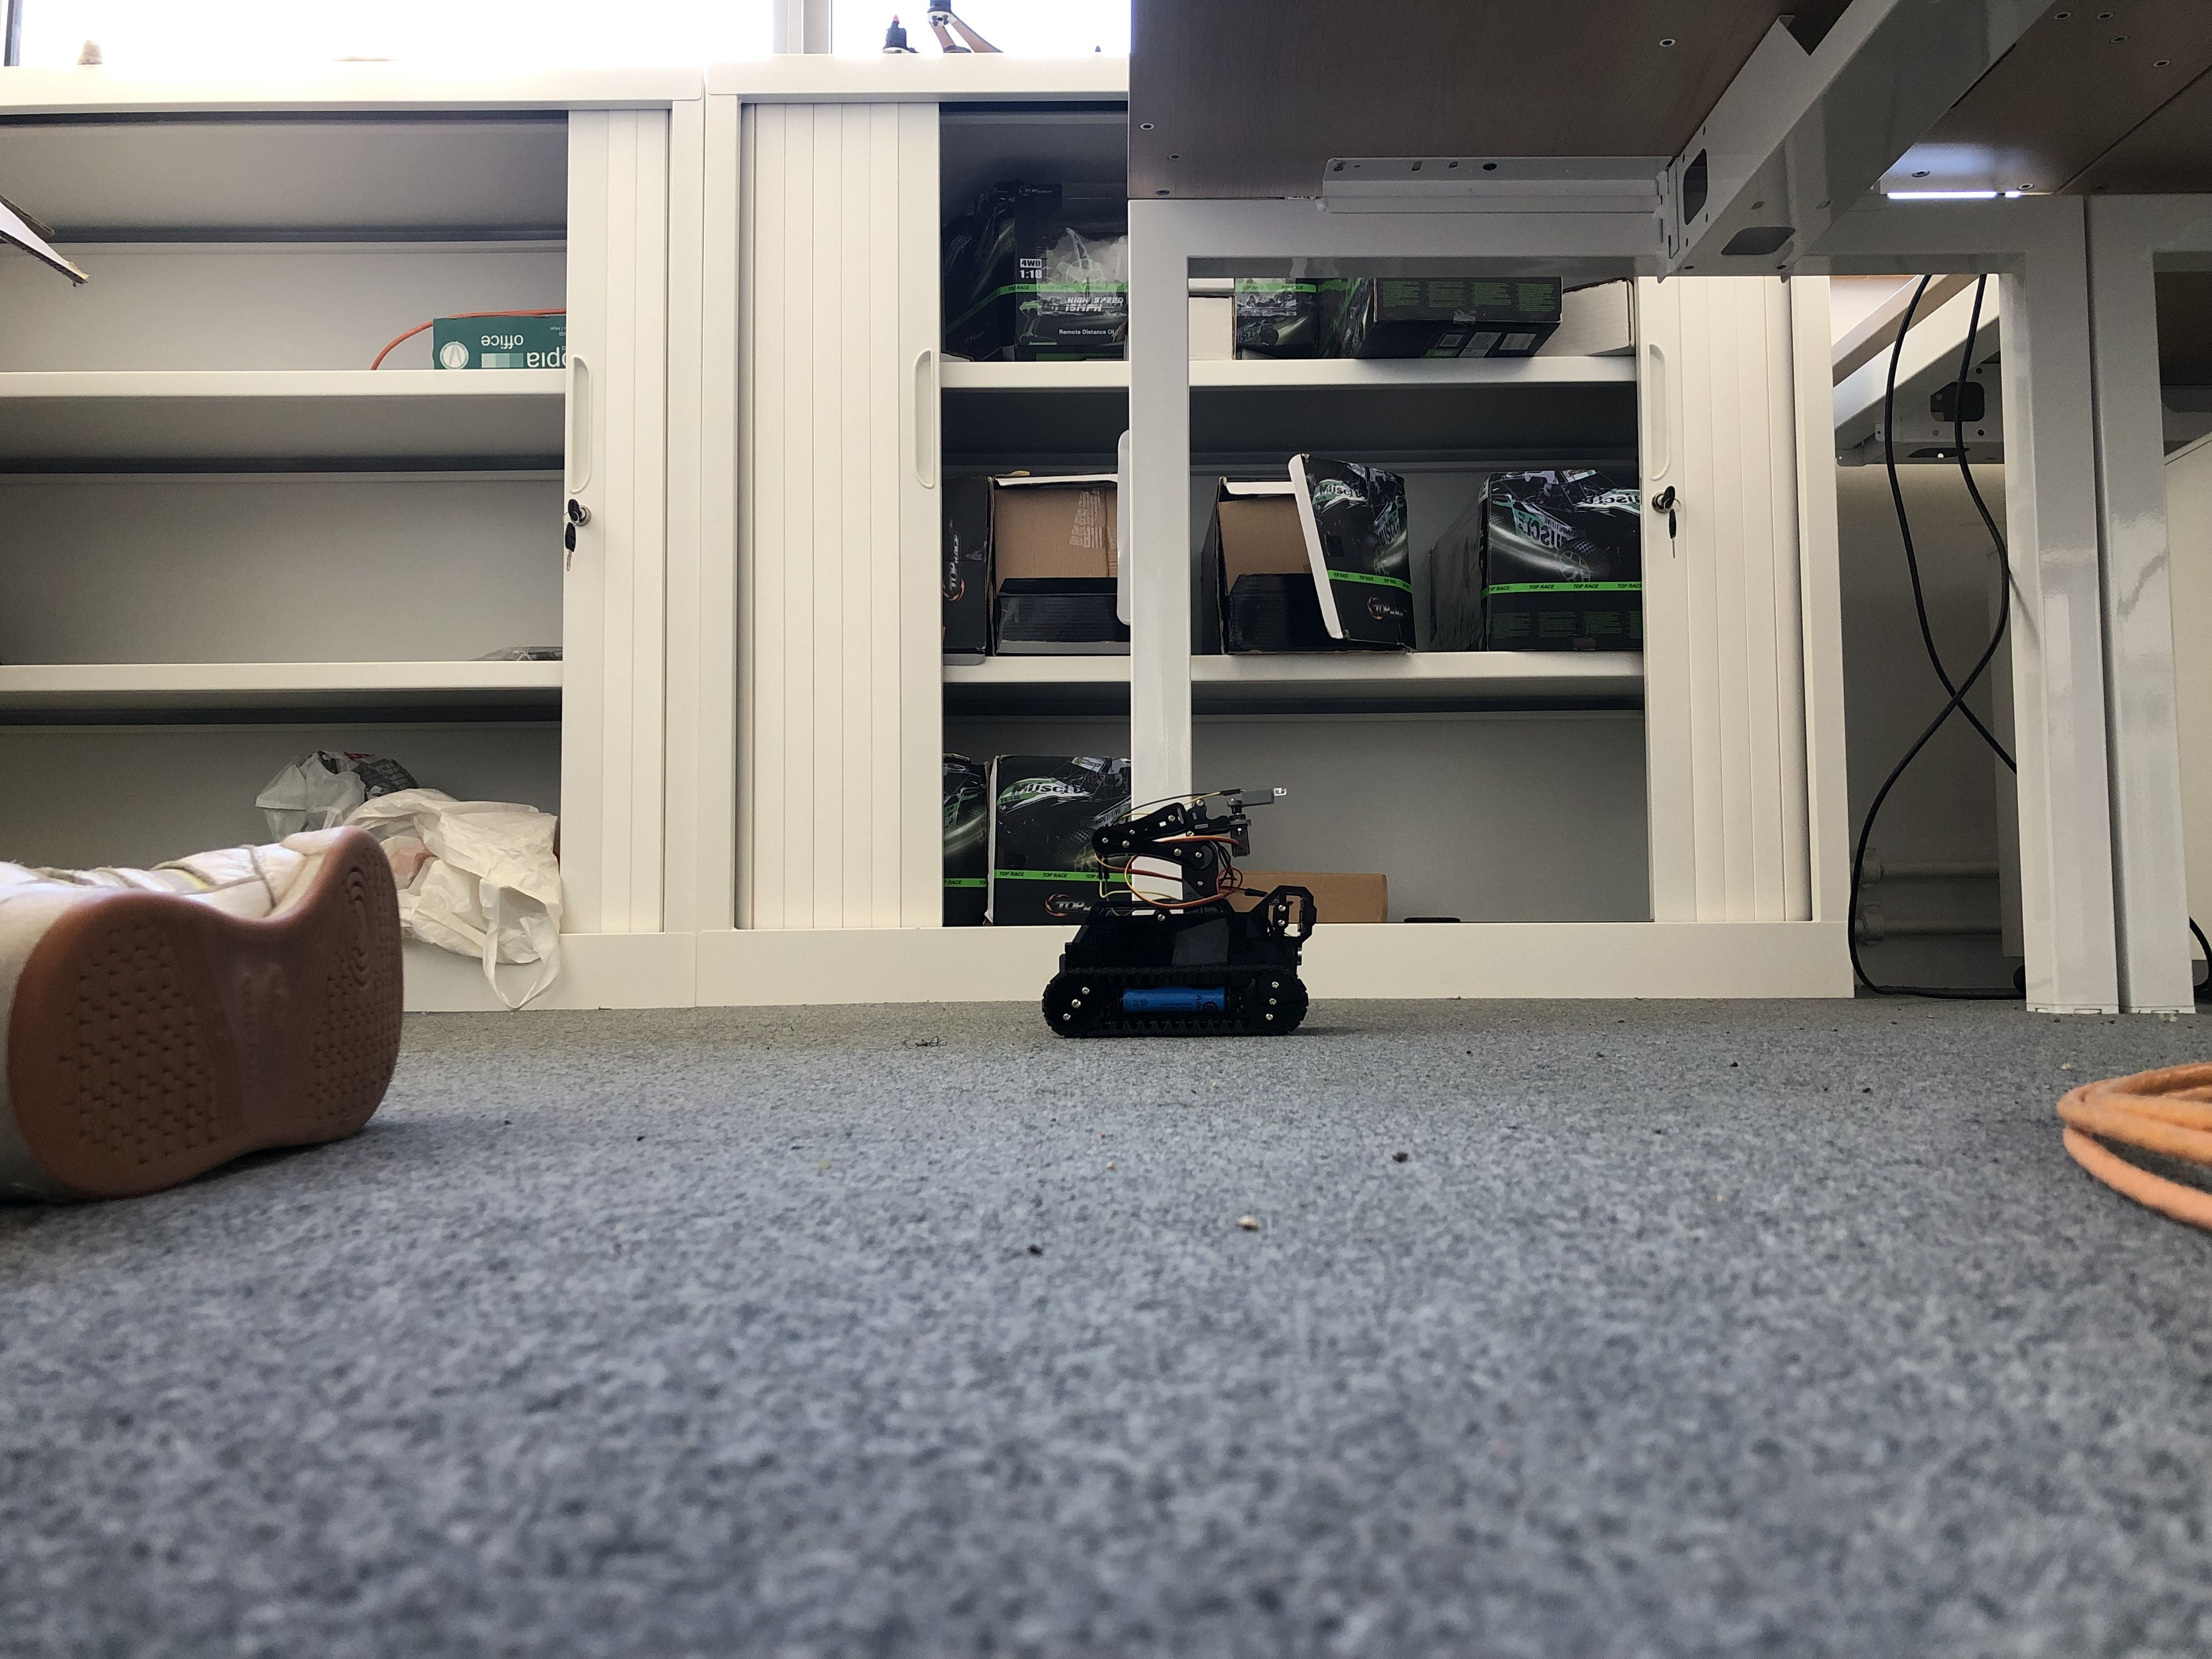rasptank: (1038, 782, 1332, 1044)
